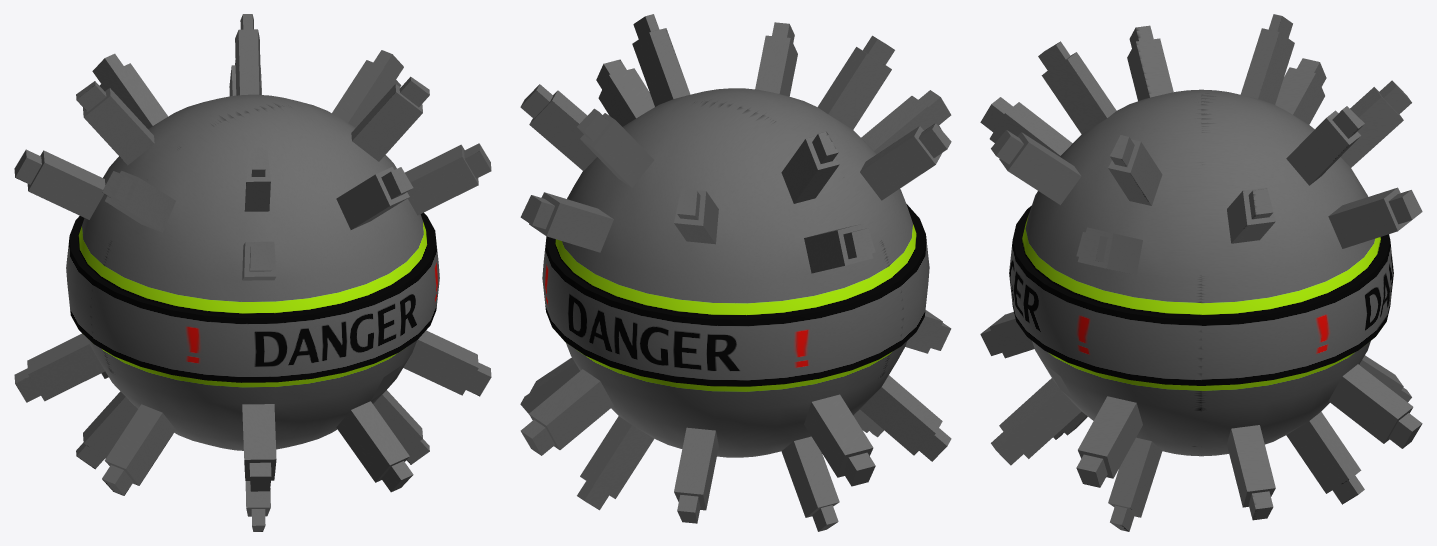
Rendered from Sea Mine.FBX.
The picture shows the model from 3 angles, left to right: view 1: azimuth 30°, elevation 25°; view 2: azimuth 150°, elevation 25°; view 3: azimuth 270°, elevation 25°; orthographic projection. The views are drawn at different scales.
Parts seen in each view (by area): view 1: Sea Mine; view 2: Sea Mine; view 3: Sea Mine.
Part boxes in pixels (box(x1,y1,x2,y2)): Sea Mine: box(14, 14, 491, 531); Sea Mine: box(520, 14, 951, 531); Sea Mine: box(980, 14, 1422, 531).
Size of the model in its own units: 24.8 by 24.44 by 24.8.
Materials: 1 (1 with a texture image).
